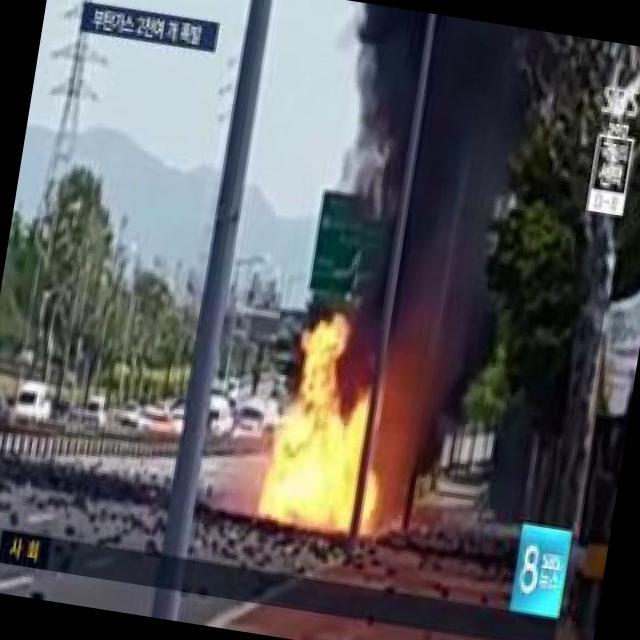Fire: (261, 326, 352, 533), (322, 410, 390, 550)
Smoke: (314, 5, 529, 412)
